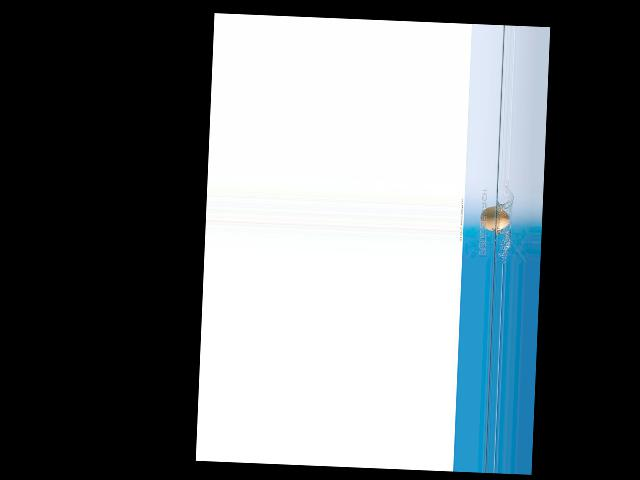egg: (479, 205, 509, 231)
